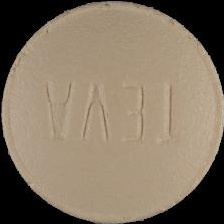68788-6399: (0, 0, 224, 224)
